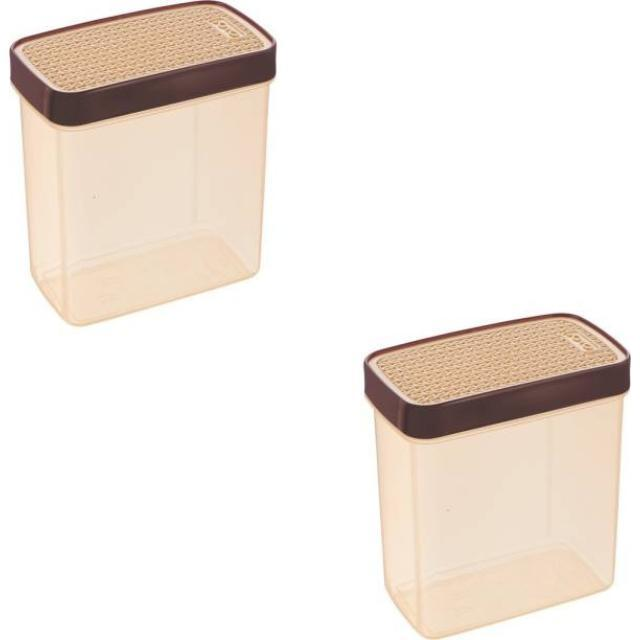plastic: (364, 314, 630, 637), (10, 0, 275, 324)
